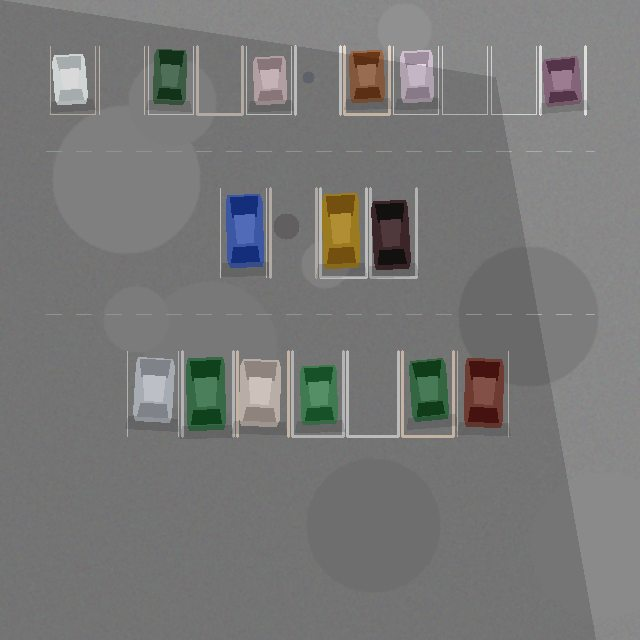space-empty: (347, 351, 398, 436), (270, 188, 316, 277), (99, 46, 144, 114), (197, 46, 242, 114), (295, 46, 340, 114), (442, 46, 487, 114), (491, 46, 536, 114)
space-occupied: (127, 351, 178, 436), (182, 351, 233, 436), (237, 351, 288, 436), (292, 351, 343, 436), (402, 351, 453, 436), (457, 351, 508, 436), (220, 188, 266, 277), (320, 188, 366, 277), (370, 188, 416, 277), (50, 46, 95, 114), (148, 46, 193, 114), (246, 46, 291, 114), (344, 46, 389, 114), (393, 46, 438, 114), (540, 46, 585, 114)
